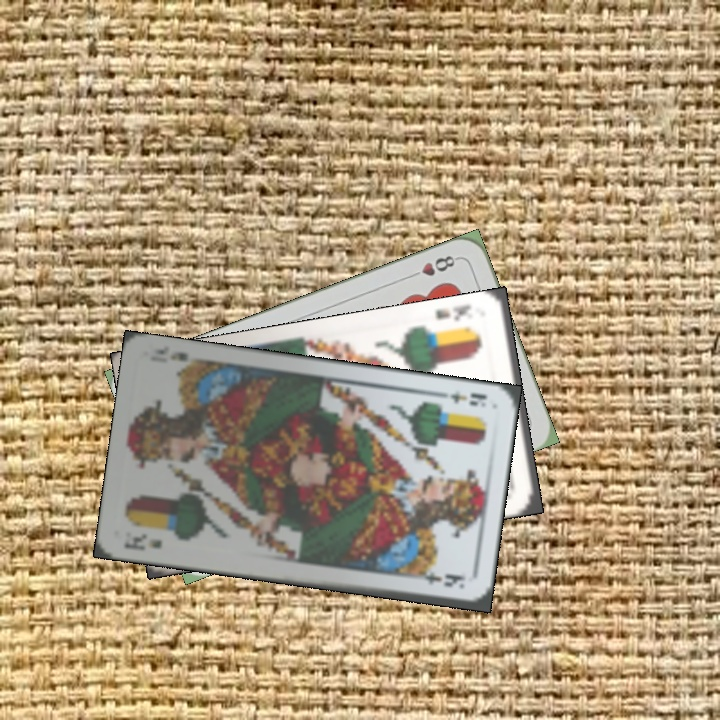EK: (434, 386, 491, 410), (120, 529, 165, 553), (432, 301, 474, 324)
H8: (405, 251, 462, 281)
